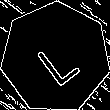L_NW: (28, 28, 83, 87)
